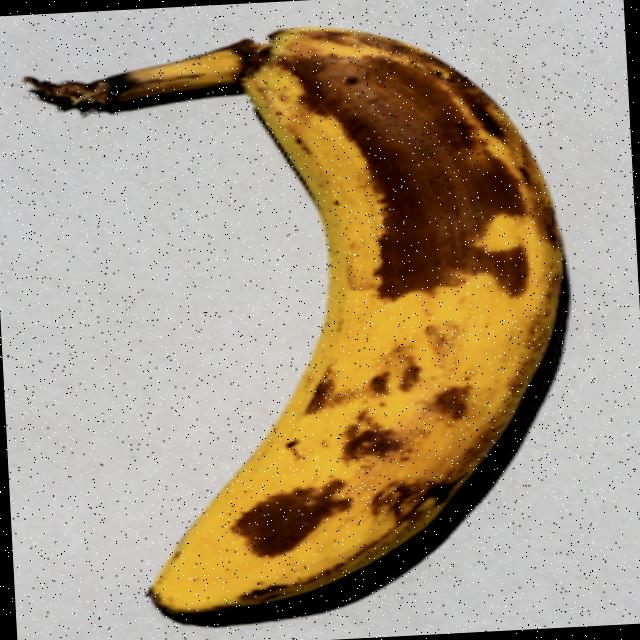overripe: (21, 14, 588, 631)
